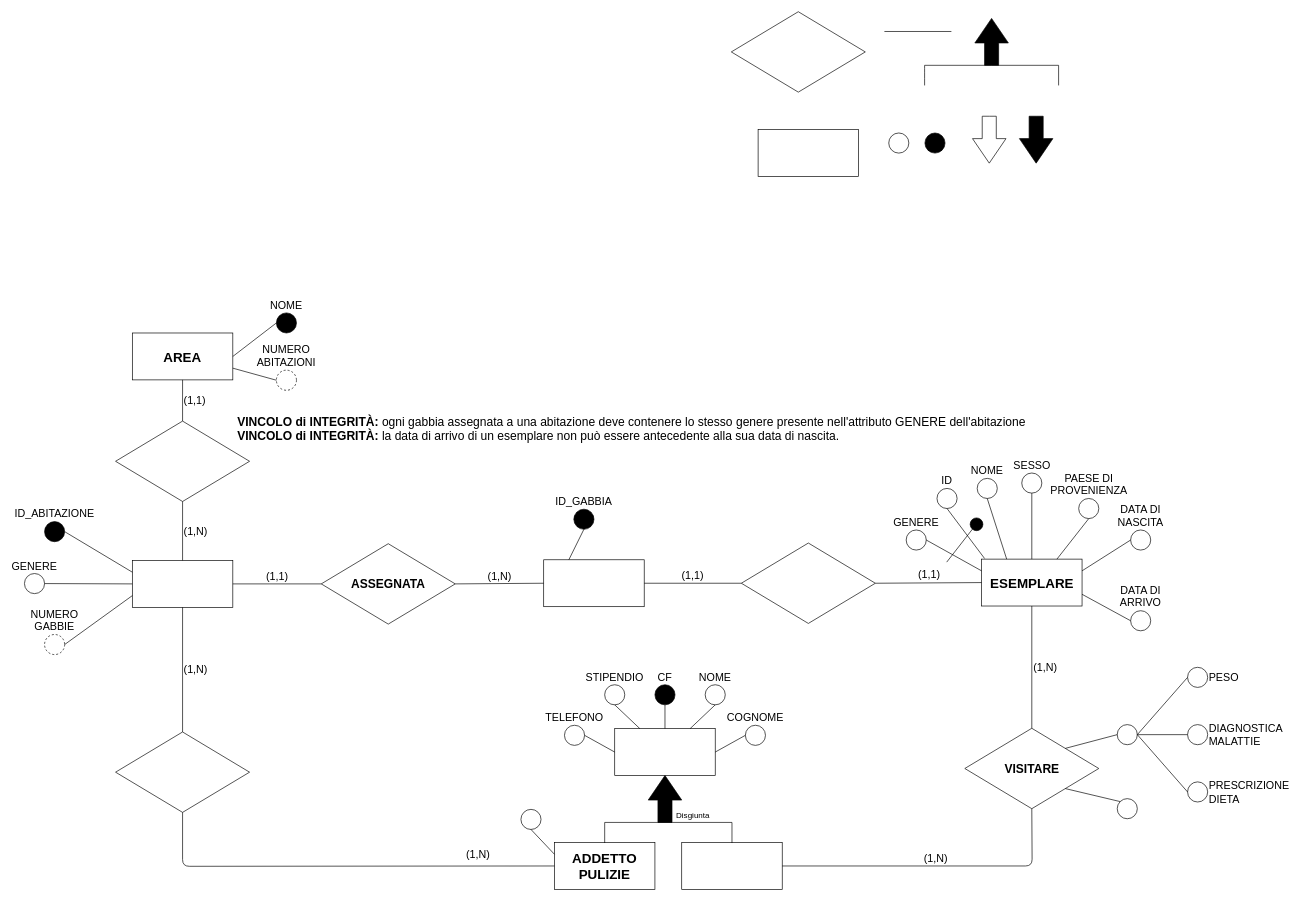
Image size: 1300x901. Some labels were removed from this diagram. The box of each missing label's shape, as (x1, y1, x2, y2) in pixels:
ABITAZIONE: (132, 560, 233, 607)
APPARTIENE A: (115, 420, 250, 501)
CONTENUTO IN: (741, 542, 875, 623)
DATA: (1117, 798, 1137, 819)
DIPENDENTE: (614, 728, 715, 776)
GABBIA: (543, 559, 644, 607)
PULIRE: (115, 731, 250, 812)
RISULTATI VISITA: (1117, 724, 1137, 745)
TURNO DI PULIZIA: (520, 809, 541, 829)
VETERINARIO: (681, 842, 782, 889)
